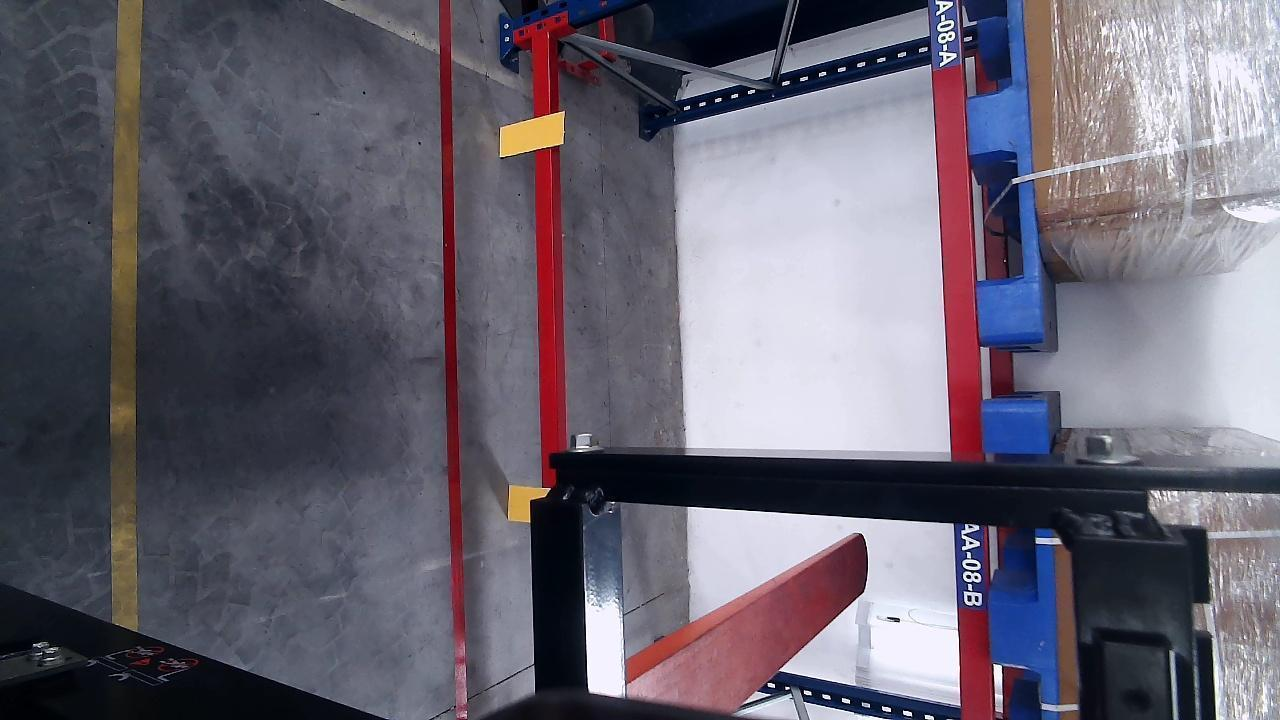red_line: (438, 1, 469, 720)
yellow_line: (112, 0, 142, 627)
